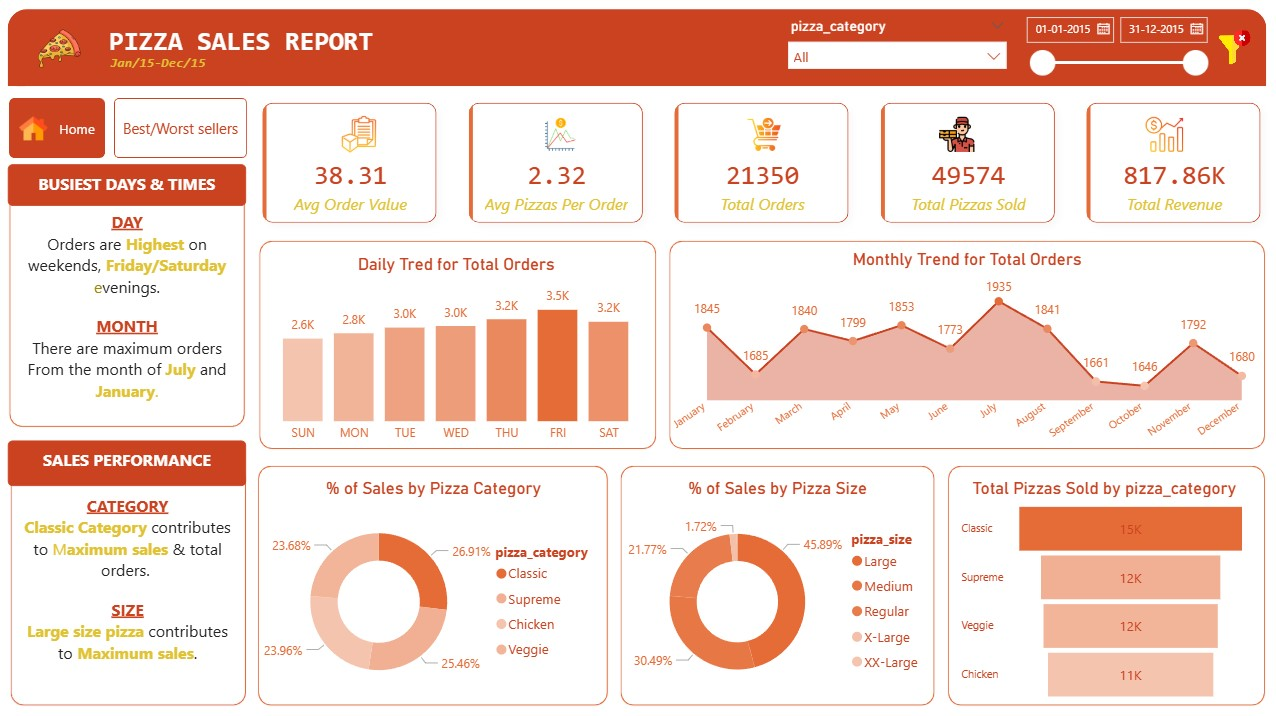

The page's visual inventory and layout, read from the dashboard file:
{"tool":"powerbi","page":{"name":"Home","canvas":[1280,720],"ordinal":0},"visuals":[{"type":"shape","box":[8.6,11.4,1258.6,77.1],"z":0},{"type":"textbox","box":[105.2,22,425.5,50.1],"z":1000},{"type":"textbox","box":[106.2,50,113.8,31.2],"z":2000},{"type":"shape","box":[258.6,241.4,400,211.4],"z":3000},{"type":"columnChart","title":"Daily Tred for Total Orders","fields":{"Y":["pizza_sales.Total Orders"],"Category":["pizza_sales.Order Day"]},"box":[258.6,255.7,397.1,197.1],"z":4000},{"type":"image","box":[35.5,28.1,50.1,44],"z":5000},{"type":"cardVisual","fields":{"Data":["pizza_sales.Avg Order Value","pizza_sales.Avg Pizzas Per Order","pizza_sales.Total Orders","pizza_sales.Total Pizzas Sold","pizza_sales.Total Revenue"]},"box":[247.1,88.6,1032.9,152.9],"z":6000},{"type":"image","box":[530.7,117.4,59.9,37.9],"z":7000},{"type":"image","box":[736.1,117.4,57.5,37.9],"z":8000},{"type":"image","box":[925.7,117.4,63.6,37.9],"z":9000},{"type":"image","box":[328.9,117.4,62.4,37.9],"z":10000},{"type":"image","box":[1142.1,117.4,45.2,37.9],"z":11000},{"type":"shape","box":[668.8,241.2,598.8,211.2],"z":12000},{"type":"areaChart","title":"Monthly Trend for Total Orders","fields":{"Category":["pizza_sales.Month Name"],"Y":["pizza_sales.Total Orders"]},"box":[668.8,251.2,598.8,201.2],"z":13000},{"type":"shape","box":[257.1,465.7,352.9,242.9],"z":14000},{"type":"shape","box":[620,465.7,317.1,242.9],"z":15000},{"type":"shape","box":[947.1,465.7,320,242.9],"z":16000},{"type":"donutChart","title":"% of Sales by Pizza Category","fields":{"Category":["pizza_sales.pizza_category"],"Y":["pizza_sales.Total Revenue"]},"box":[258.6,480,351.4,228.6],"z":17000},{"type":"donutChart","title":"% of Sales by Pizza Size","fields":{"Y":["pizza_sales.Total Revenue"],"Category":["pizza_sales.pizza_size"]},"box":[620,480,317.1,228.6],"z":18000},{"type":"funnel","fields":{"Y":["pizza_sales.Total Pizzas Sold"],"Category":["pizza_sales.pizza_category"]},"box":[957.1,480,295.7,228.6],"z":19000},{"type":"slicer","fields":{"Values":["pizza_sales.pizza_category"]},"box":[778.8,15,238.8,70],"z":20000},{"type":"slicer","fields":{"Values":["pizza_sales.order_date"]},"box":[1015,8.8,202.5,88.8],"z":21000},{"type":"shape","box":[8.6,175.7,238.6,254.3],"z":22000},{"type":"textbox","box":[8.6,165.7,238.6,41.4],"z":23000},{"type":"textbox","box":[8.6,207.1,238.6,212.9],"z":24000},{"type":"textbox","box":[20,491.4,217.1,205.7],"z":25000},{"type":"shape","box":[10,465.7,238.6,242.9],"z":26000},{"type":"textbox","box":[8.6,442.9,238.6,45.7],"z":27000},{"type":"pageNavigator","box":[9.6,100.2,96.1,60.4],"z":28000},{"type":"pageNavigator","box":[115.3,100.2,133.1,60.4],"z":29000},{"type":"image","box":[20.6,97.4,28.8,65.9],"z":30000},{"type":"actionButton","box":[1217.5,32.5,36.2,33.8],"z":30001}]}

Visuals, with their boxes in screenshot pixels (x1, y1, x2, y2), scaled from the page's 1280x720 canvas onto the 1276x716 screenshot:
shape: [9,11,1263,88]
textbox: [105,22,529,72]
textbox: [106,50,219,81]
shape: [258,240,657,450]
"Daily Tred for Total Orders" columnChart: [258,254,654,450]
image: [35,28,85,72]
cardVisual - pizza_sales.Avg Order Value x pizza_sales.Avg Pizzas Per Order: [246,88,1275,240]
image: [529,117,589,154]
image: [734,117,791,154]
image: [923,117,986,154]
image: [328,117,390,154]
image: [1139,117,1184,154]
shape: [667,240,1264,450]
"Monthly Trend for Total Orders" areaChart: [667,250,1264,450]
shape: [256,463,608,705]
shape: [618,463,934,705]
shape: [944,463,1263,705]
"% of Sales by Pizza Category" donutChart: [258,477,608,705]
"% of Sales by Pizza Size" donutChart: [618,477,934,705]
funnel - pizza_sales.Total Pizzas Sold x pizza_sales.pizza_category: [954,477,1249,705]
slicer - pizza_sales.pizza_category: [776,15,1014,85]
slicer - pizza_sales.order_date: [1012,9,1214,97]
shape: [9,175,246,428]
textbox: [9,165,246,206]
textbox: [9,206,246,418]
textbox: [20,489,236,693]
shape: [10,463,248,705]
textbox: [9,440,246,486]
pageNavigator: [10,100,105,160]
pageNavigator: [115,100,248,160]
image: [21,97,49,162]
actionButton: [1214,32,1250,66]
